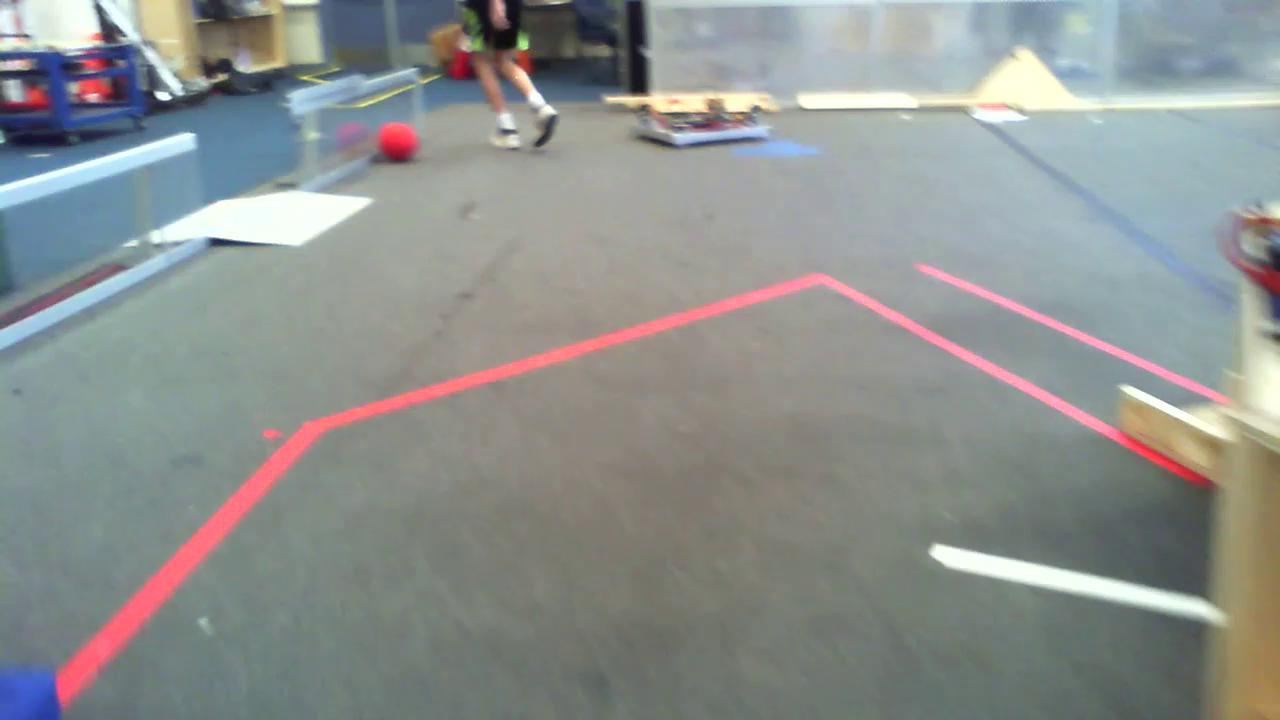Red_Ball: (370, 112, 433, 166)
